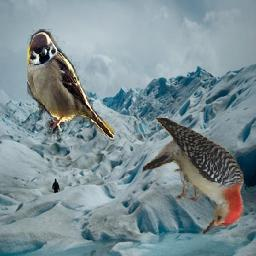Sparrow: (28, 29, 115, 141)
Woodpecker: (143, 119, 247, 236)
